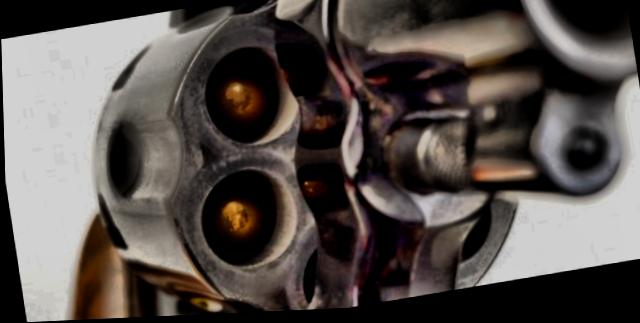pistol: (15, 0, 640, 322)
